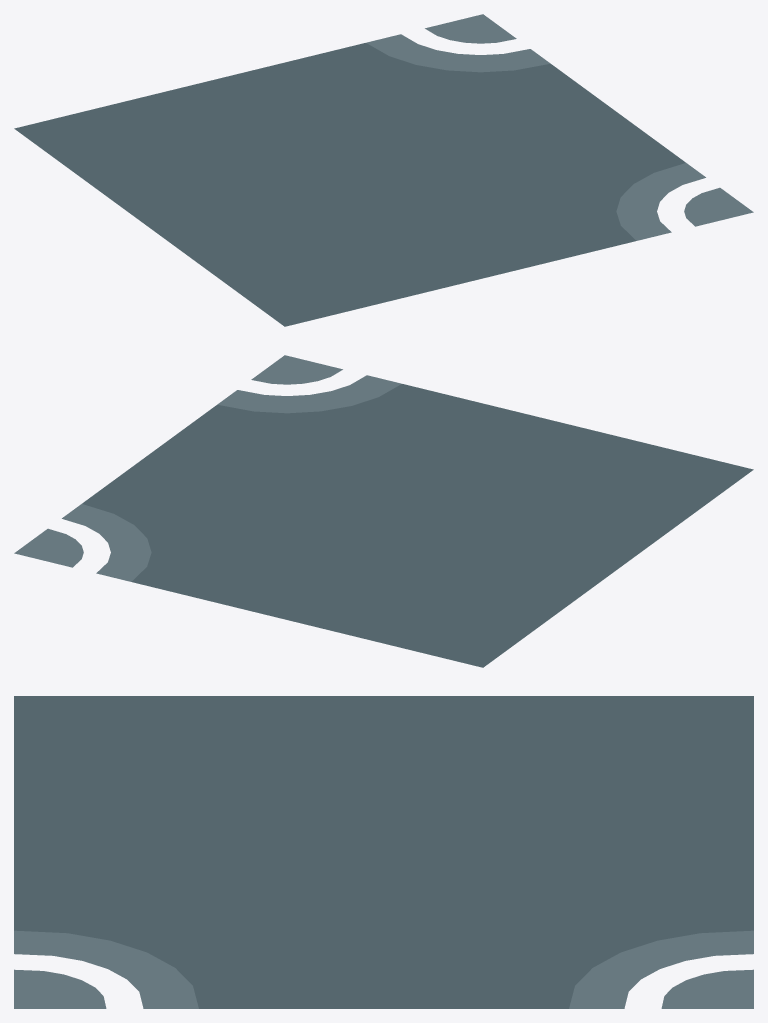
The model's file is Ceiling_type_C_038.glb.
3 views of the same model, one above another, from view 1: azimuth 30°, elevation 25°; view 2: azimuth 150°, elevation 25°; view 3: azimuth 270°, elevation 25° (orthographic). The views are drawn at different scales.
Parts seen in each view (by area): view 1: Ceiling_type_C_038; view 2: Ceiling_type_C_038; view 3: Ceiling_type_C_038.
Boxes of the visible parts, bbox=[...] form: Ceiling_type_C_038: bbox=[14, 14, 753, 326]; Ceiling_type_C_038: bbox=[14, 355, 753, 667]; Ceiling_type_C_038: bbox=[14, 696, 753, 1008].
Bounding box in the file's own units: 4 × 0.012 × 4.
Materials: 2 (2 with a texture image).
